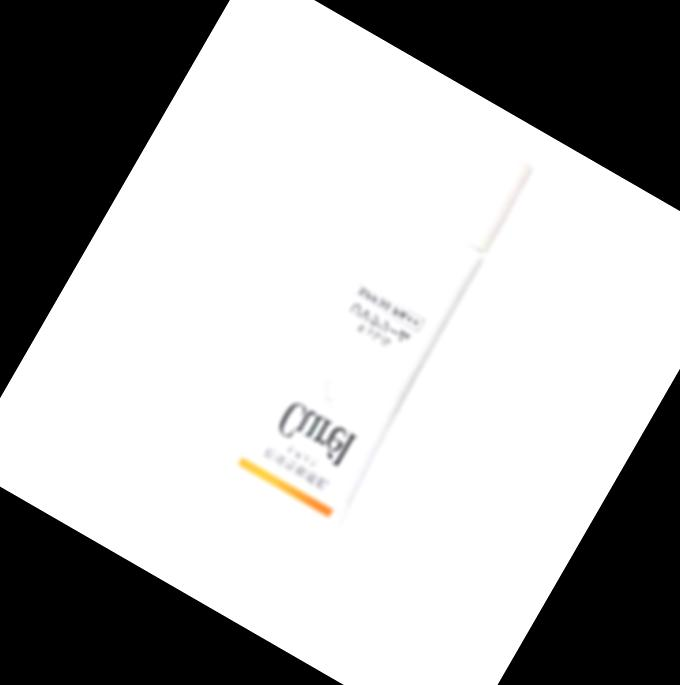cosmetic: (175, 102, 550, 596)
